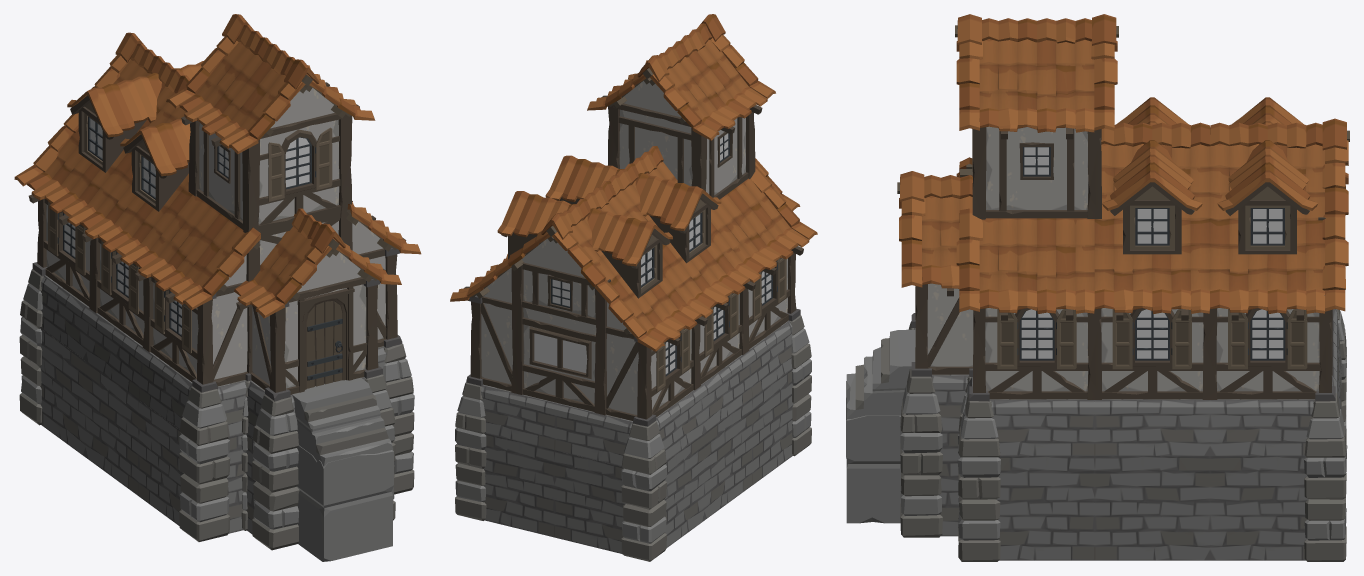
Rendered from SM_Bld_Preset_Church_01_A_Optimized.fbx.
The picture shows the model from 3 angles, left to right: view 1: azimuth 30°, elevation 25°; view 2: azimuth 150°, elevation 25°; view 3: azimuth 270°, elevation 25°; orthographic projection. The views are drawn at different scales.
Visible parts, largest first — view 1: SM_Bld_Preset_Church_01_A_Optimized, SM_Bld_Preset_Church_01_A_Glass_Optimized; view 2: SM_Bld_Preset_Church_01_A_Optimized, SM_Bld_Preset_Church_01_A_Glass_Optimized; view 3: SM_Bld_Preset_Church_01_A_Optimized, SM_Bld_Preset_Church_01_A_Glass_Optimized.
Part boxes in pixels (box(x1,y1,x2,y2)): SM_Bld_Preset_Church_01_A_Optimized: box(14, 14, 421, 561); SM_Bld_Preset_Church_01_A_Glass_Optimized: box(64, 118, 309, 334); SM_Bld_Preset_Church_01_A_Optimized: box(450, 14, 817, 561); SM_Bld_Preset_Church_01_A_Glass_Optimized: box(534, 133, 771, 373); SM_Bld_Preset_Church_01_A_Optimized: box(846, 14, 1349, 561); SM_Bld_Preset_Church_01_A_Glass_Optimized: box(1021, 147, 1283, 358).
Bounding box in the file's own units: 645 × 1174 × 1092.
